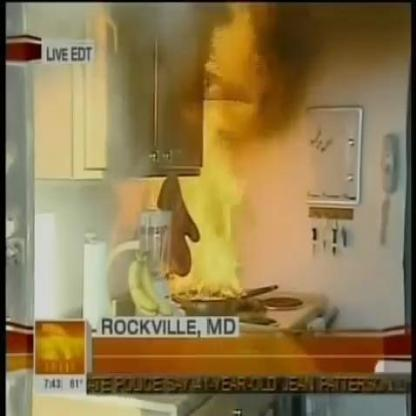fire: (171, 8, 270, 300)
